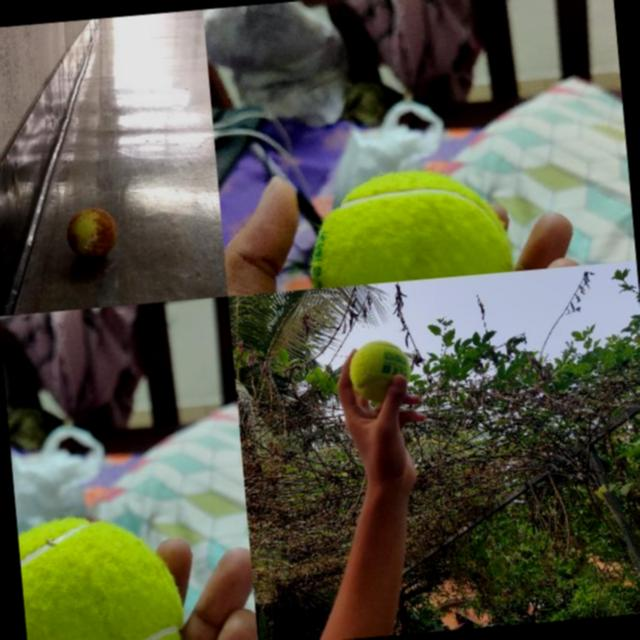tennis-ball: (300, 162, 514, 288), (16, 504, 187, 640), (346, 338, 413, 404), (64, 204, 120, 260)
